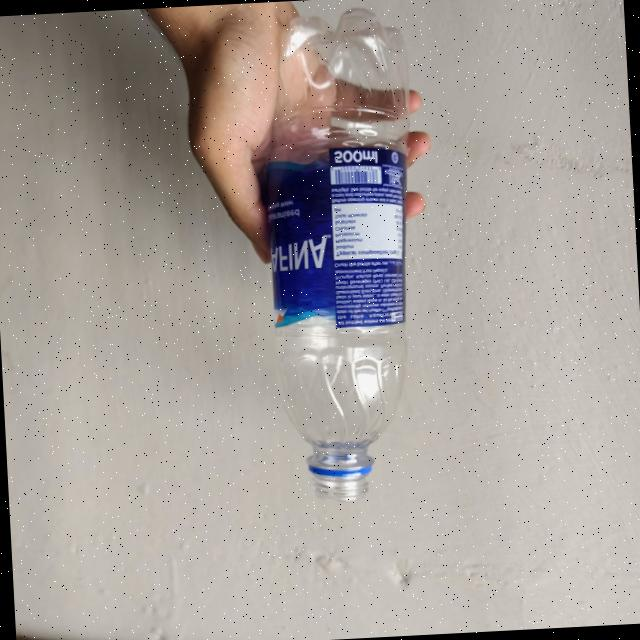bottle: (250, 15, 434, 515)
label: (263, 146, 417, 350)
